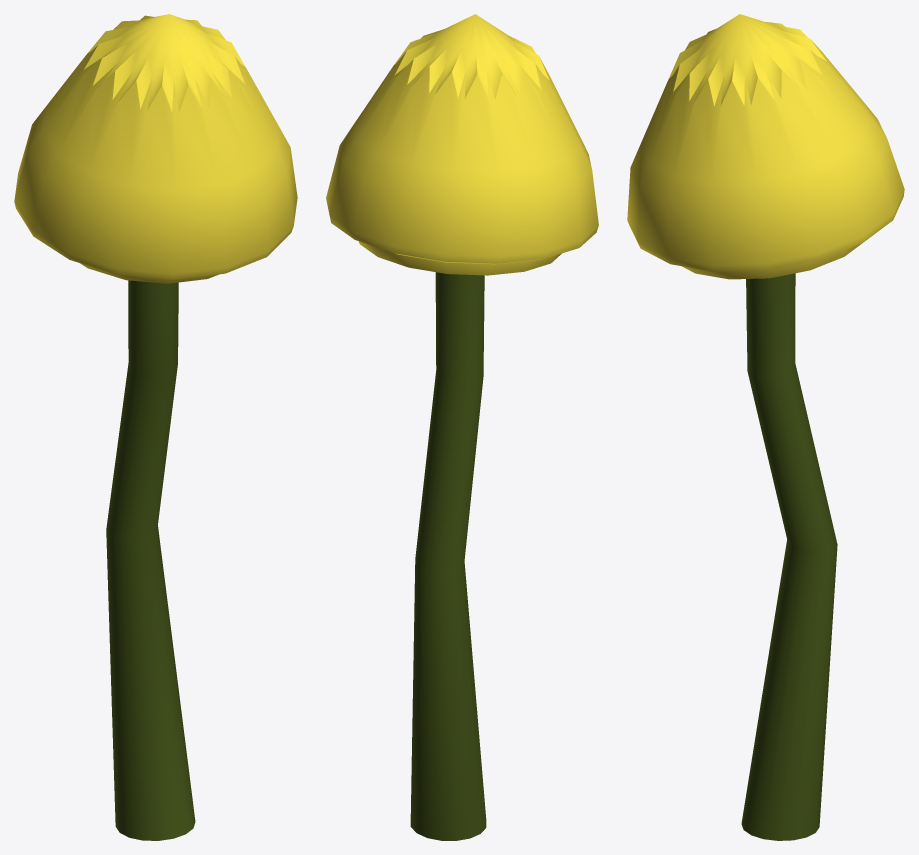
Rendered from Sm_Flowers4L.fbx.
3 views of the same model, side by side, from view 1: azimuth 30°, elevation 25°; view 2: azimuth 150°, elevation 25°; view 3: azimuth 270°, elevation 25° (orthographic). The views are drawn at different scales.
Parts seen in each view (by area): view 1: Sm_Flowers4L; view 2: Sm_Flowers4L; view 3: Sm_Flowers4L.
Part boxes in pixels (box(x1,y1,x2,y2)): Sm_Flowers4L: box(14, 14, 297, 840); Sm_Flowers4L: box(326, 14, 598, 840); Sm_Flowers4L: box(627, 14, 904, 840).
Bounding box in the file's own units: 14.28 × 45.63 × 14.18.
